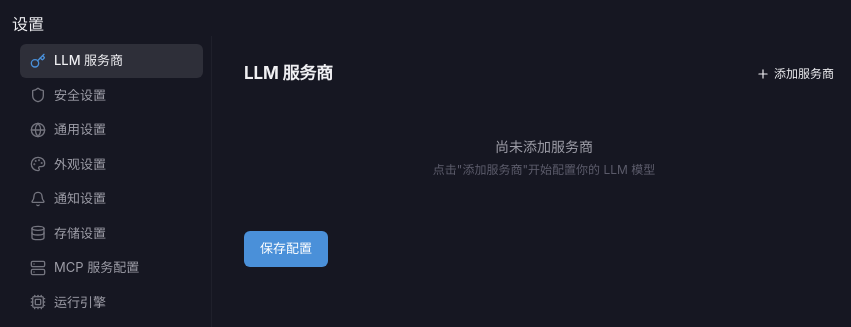
Scenario: SettingsView — E2E 关键路径 › saves config when save button is clicked and shows confirmation
Step 1. Click the button "保存配置" → (286, 249), box [244, 231, 328, 266]
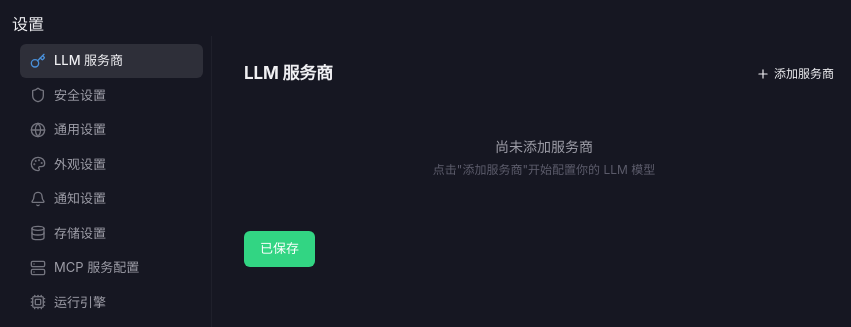
Expected: the text "已保存" is shown, [244, 231, 315, 266]
